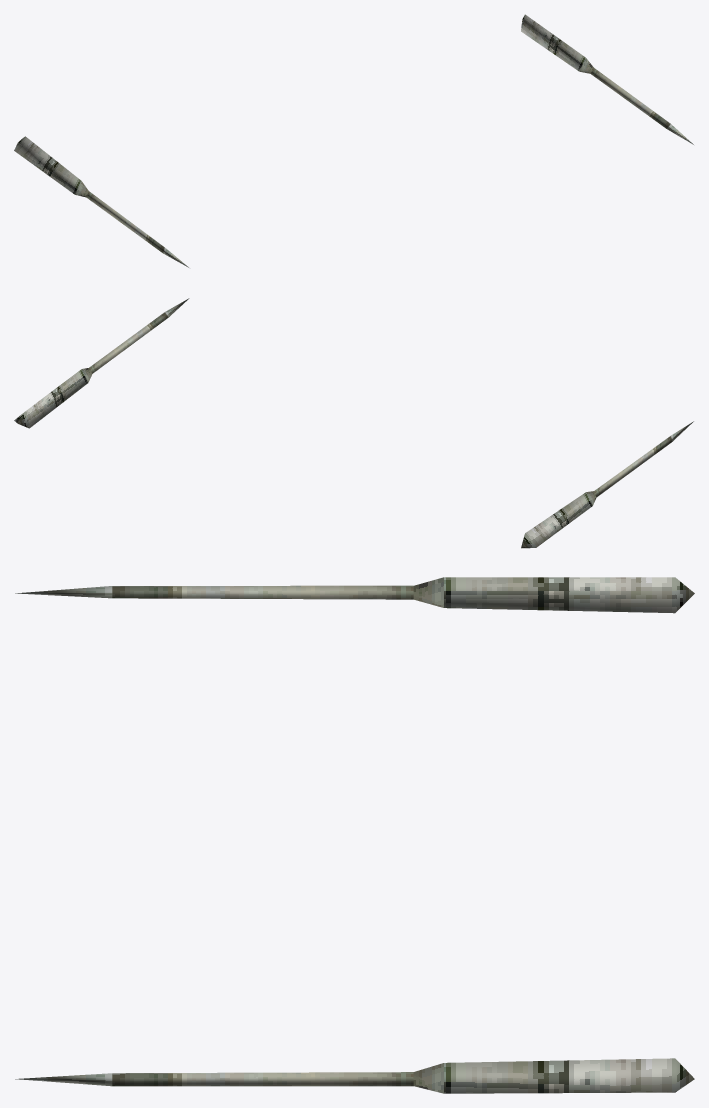
The model's file is z95_weapon_s05_l3.fbx.
3 renders of one model, top to bottom at view 1: azimuth 30°, elevation 25°; view 2: azimuth 150°, elevation 25°; view 3: azimuth 270°, elevation 25°, orthographic. The views are drawn at different scales.
Parts seen in each view (by area): view 1: mesh_node; view 2: mesh_node; view 3: mesh_node.
Boxes of the visible parts, x1,y1,x2,y2 form: mesh_node: (14,14,693,267); mesh_node: (14,298,693,548); mesh_node: (15,577,694,1093).
Size of the model in its own units: 15.24 by 0.4508 by 8.72.
